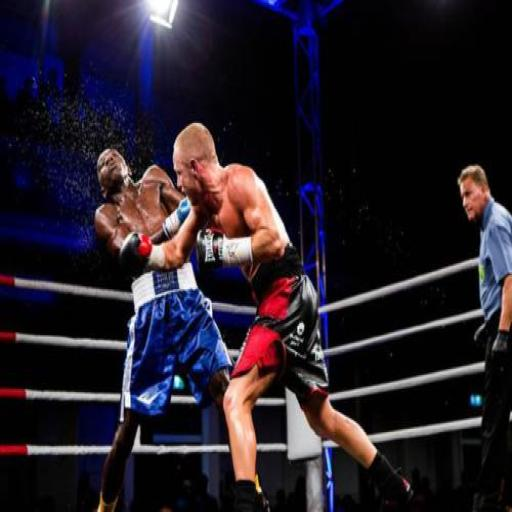boxing: (48, 93, 365, 512), (116, 120, 416, 510)
